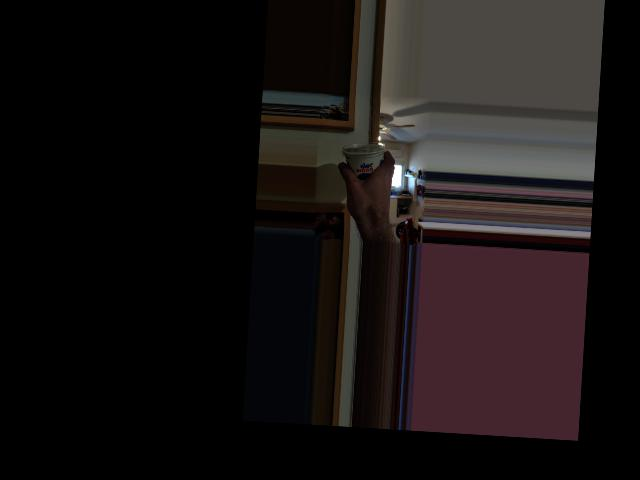cotage: (341, 139, 390, 191)
